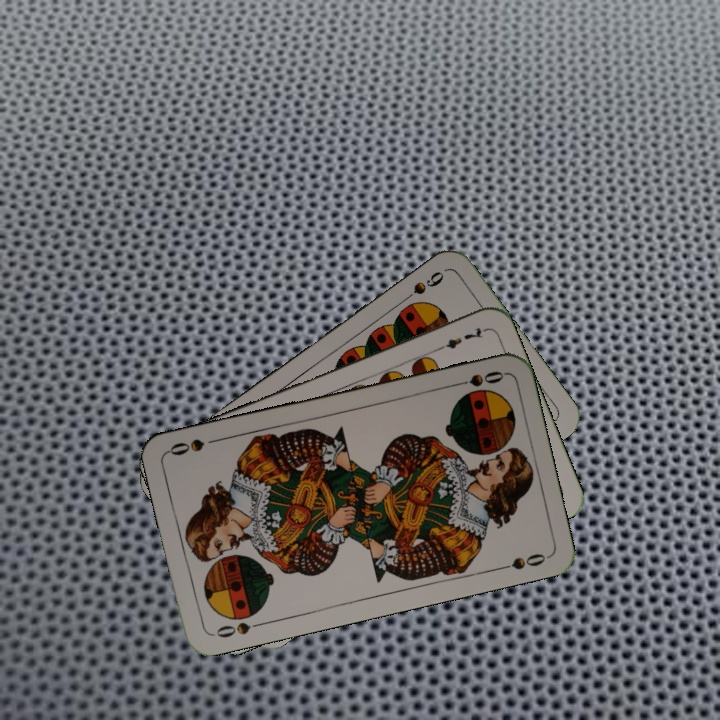E7: (432, 323, 488, 354)
S9: (396, 267, 447, 307)
SO: (448, 366, 507, 390), (208, 618, 267, 640)
